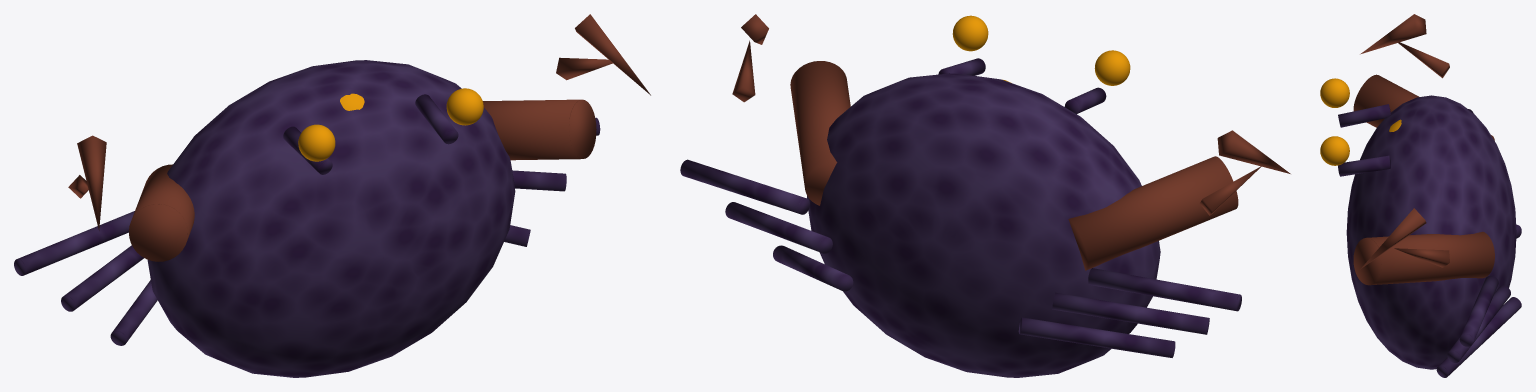
Rendered from 04_inimigo_caranguejo_blindado.obj.
The picture shows the model from 3 angles, left to right: view 1: azimuth 30°, elevation 25°; view 2: azimuth 150°, elevation 25°; view 3: azimuth 270°, elevation 25°; orthographic projection. The views are drawn at different scales.
Parts seen in each view (by area): view 1: Sphere, Cylinder.002, Cylinder.003, Cylinder.009, Cylinder.007, Cone.002, Cone, Cylinder.005, Sphere.002, Sphere.001, Cylinder.006, Cylinder (+2 smaller); view 2: Sphere, Cylinder.003, Cylinder.002, Cylinder.007, Cylinder.005, Cylinder.009, Cylinder.008, Cylinder.006, Cylinder.004, Cone.002, Sphere.001, Sphere.002 (+4 smaller); view 3: Sphere, Cylinder.002, Cylinder.003, Cylinder.004, Cylinder.008, Cone.002, Cylinder.006, Cone, Cylinder, Cylinder.001, Sphere.001, Sphere.002 (+2 smaller).
Part boxes in pixels (x1,y1,x2,y2): Sphere: (147, 60, 515, 377); Cylinder.002: (483, 99, 596, 160); Cylinder.003: (129, 164, 194, 261); Cylinder.009: (14, 211, 134, 275); Cylinder.007: (61, 245, 143, 311); Cone.002: (77, 135, 106, 230); Cone: (575, 14, 650, 95); Cylinder.005: (110, 280, 157, 345); Sphere.002: (298, 124, 335, 161); Sphere.001: (446, 88, 483, 125); Cylinder.006: (512, 170, 566, 191); Cylinder: (415, 94, 458, 144); Sphere: (807, 73, 1160, 377); Cylinder.003: (1068, 156, 1238, 270); Cylinder.002: (790, 61, 850, 205); Cylinder.007: (1052, 292, 1209, 334); Cylinder.005: (1018, 317, 1175, 357); Cylinder.009: (1088, 268, 1241, 311); Cylinder.008: (680, 159, 809, 214); Cylinder.006: (725, 202, 832, 253); Cylinder.004: (773, 245, 853, 291); Cone.002: (1217, 130, 1290, 173); Sphere.001: (952, 15, 988, 51); Sphere.002: (1094, 50, 1130, 85); Sphere: (1346, 95, 1516, 369); Cylinder.002: (1353, 231, 1494, 285); Cylinder.003: (1353, 74, 1494, 140); Cylinder.004: (1436, 297, 1521, 377); Cylinder.008: (1459, 275, 1498, 346); Cone.002: (1360, 14, 1426, 54); Cylinder.006: (1447, 285, 1510, 362); Cone: (1360, 208, 1426, 269); Cylinder: (1338, 155, 1390, 176); Cylinder.001: (1338, 104, 1390, 127); Sphere.001: (1320, 136, 1349, 165); Sphere.002: (1320, 78, 1349, 107).
Size of the model in its own units: 3.6 by 1.8 by 1.36.
Materials: 18 (18 with a texture image).
